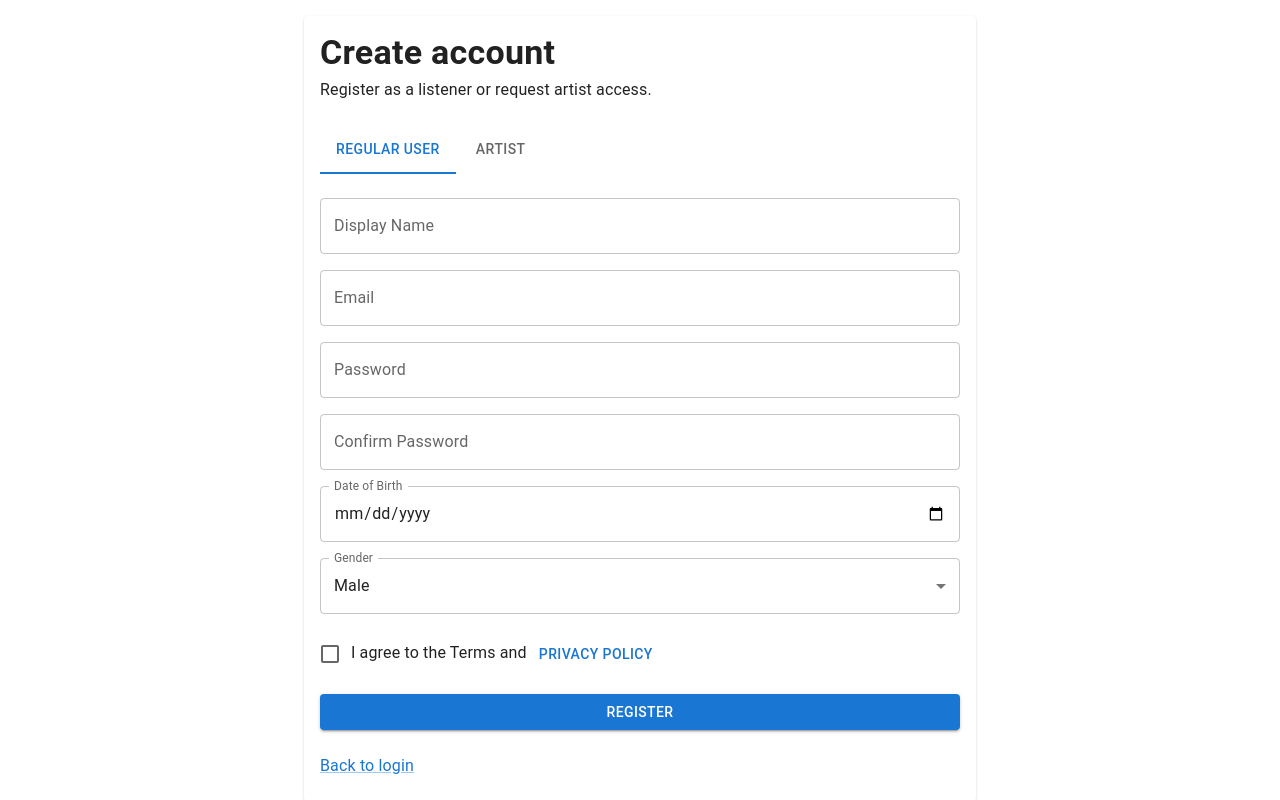
Test: RegisterPage › opens the artist privacy policy dialog
Click the tab "Artist". click: (501, 150)
box: [456, 126, 546, 174]
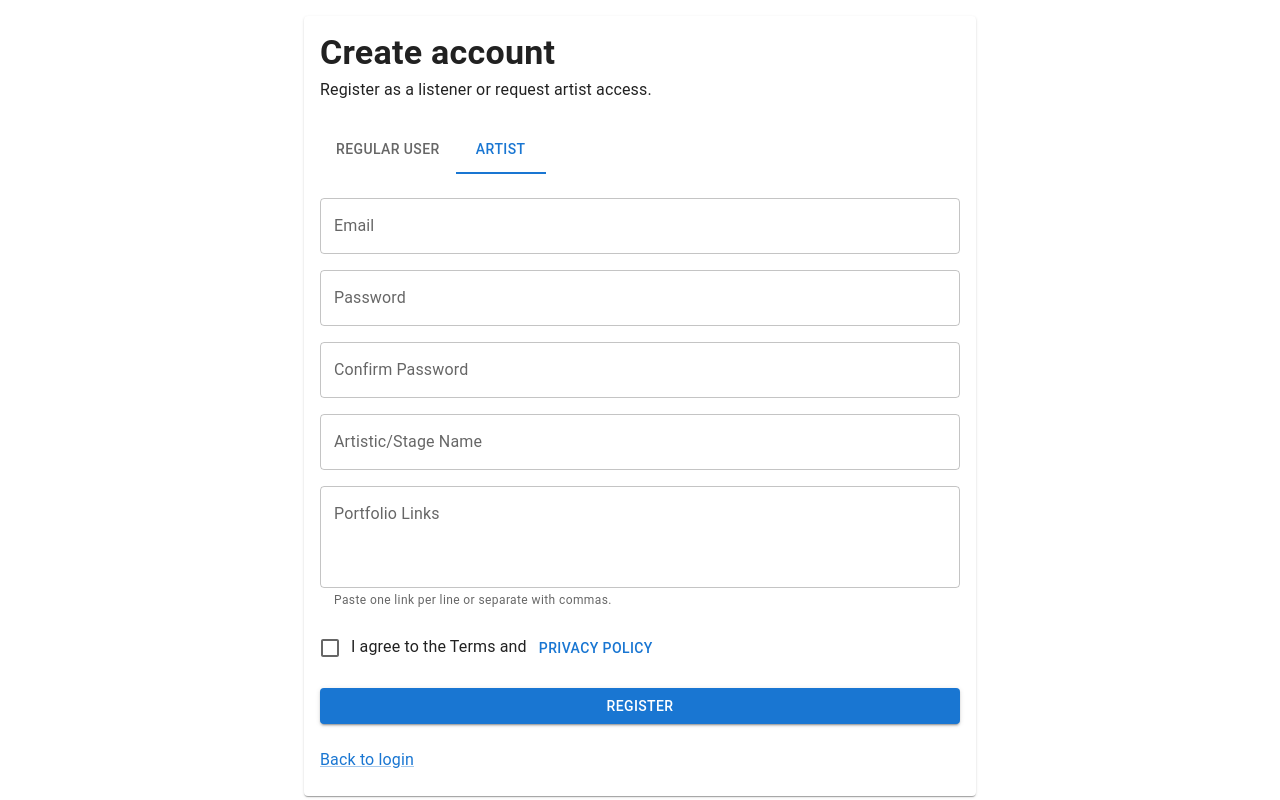
Click the button "Privacy Policy". click: (596, 648)
box: [531, 630, 661, 666]
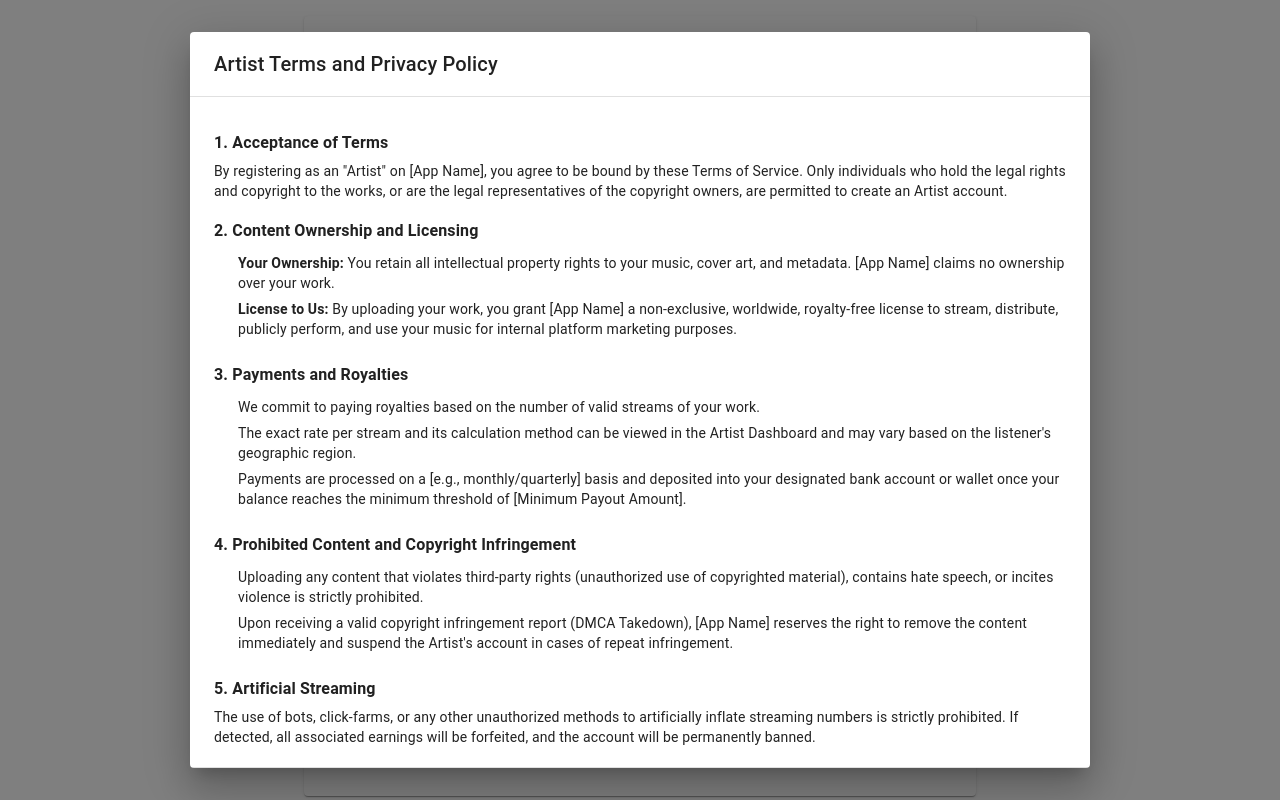
Check: the dialog shows "Artist Terms and Privacy Policy", box [214, 52, 498, 76]
